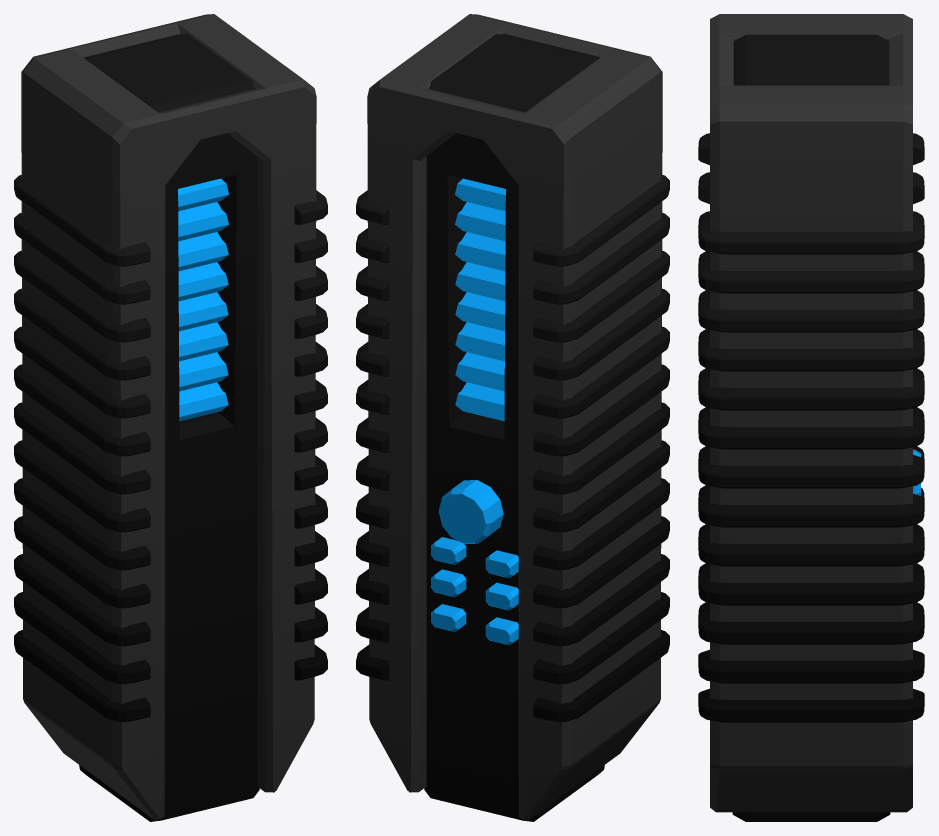
File: Msh_Magazine_A.FBX
3 views of the same model, side by side, from view 1: azimuth 30°, elevation 25°; view 2: azimuth 150°, elevation 25°; view 3: azimuth 270°, elevation 25° (orthographic). The views are drawn at different scales.
Visible parts, largest first — view 1: Msh_Magazine_Body, Msh_Magazine; view 2: Msh_Magazine_Body, Msh_Magazine; view 3: Msh_Magazine_Body, Msh_Magazine.
Boxes of the visible parts, x1,y1,x2,y2 form: Msh_Magazine_Body: (14,14,327,821); Msh_Magazine: (79,34,259,821); Msh_Magazine_Body: (356,14,669,821); Msh_Magazine: (424,34,604,821); Msh_Magazine_Body: (698,14,924,812); Msh_Magazine: (732,34,920,821).
Size of the model in its own units: 3.59 by 3.1 by 11.13.
